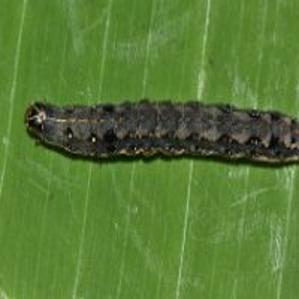Tobacco cutworm: (12, 68, 299, 201)
